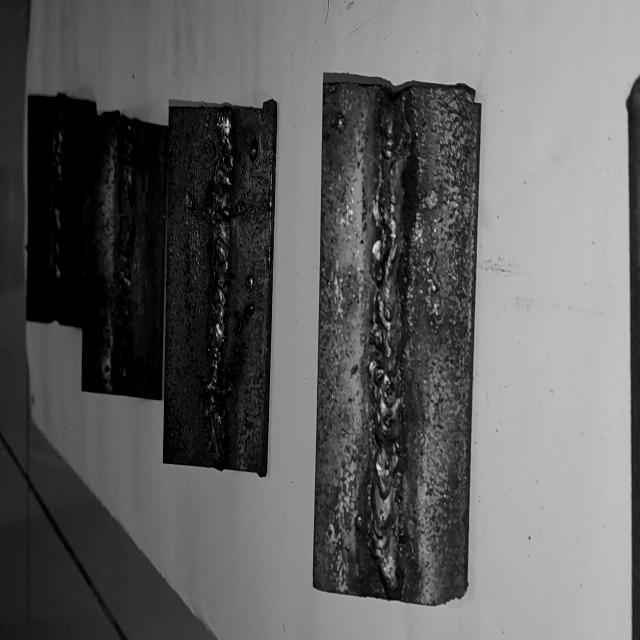Bad Weld: (115, 128, 136, 384)
Defect: (118, 128, 137, 384)
Good Weld: (368, 90, 413, 591), (207, 114, 233, 456), (49, 109, 65, 317)
